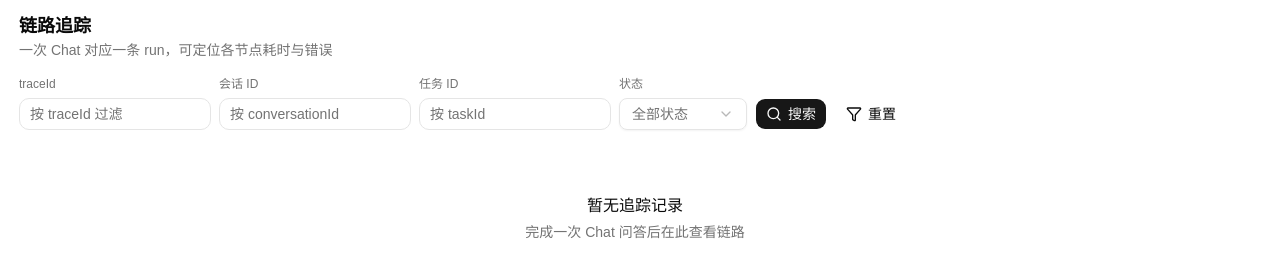
Test: TraceListPage › 搜索写入 URL 并按 traceId 重新查询
Expected: the text "暂无追踪记录" is shown, [587, 194, 683, 218]
Type "tr-99" into the field with placeholder "按 traceId 过滤" at point(115, 114), box [19, 98, 211, 130]
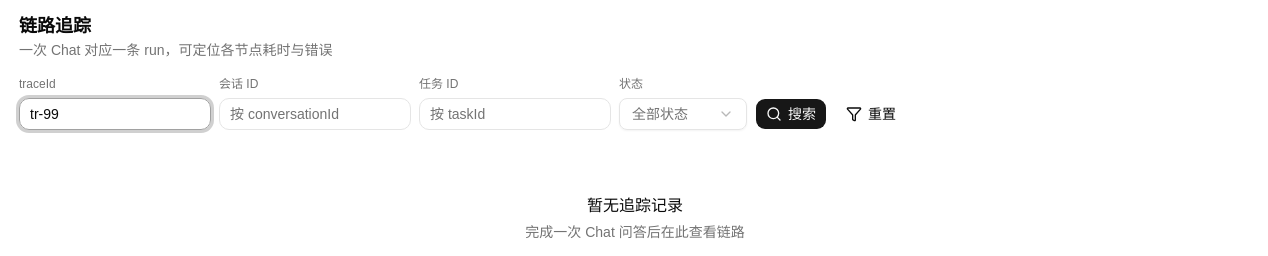
Click the button "搜索" at point(791, 114), box [755, 98, 827, 130]
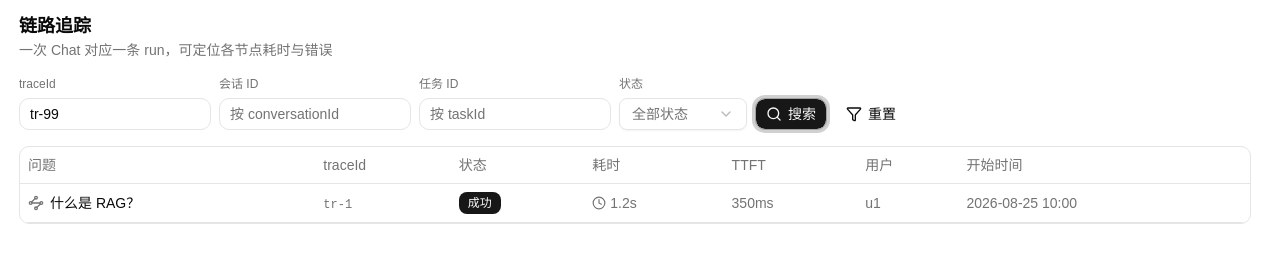
Expected: the text "什么是 RAG？" is shown, [50, 192, 140, 212]
